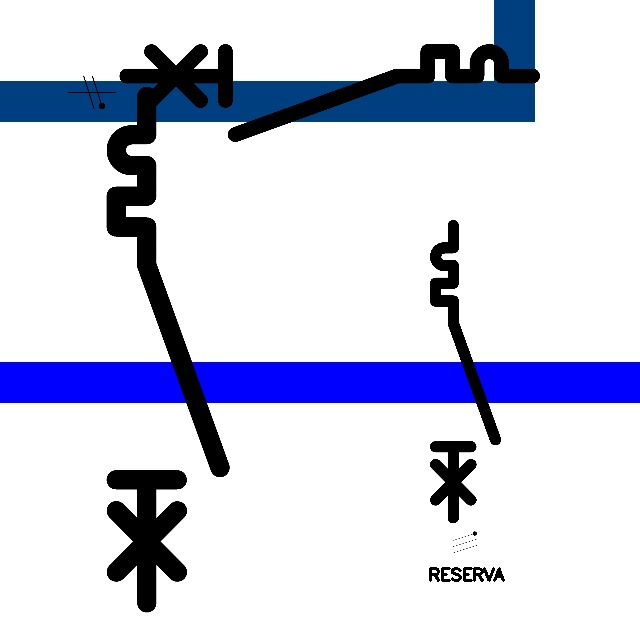interruptor_termomagnetico: (103, 83, 233, 616), (116, 41, 543, 145), (428, 218, 503, 525)
